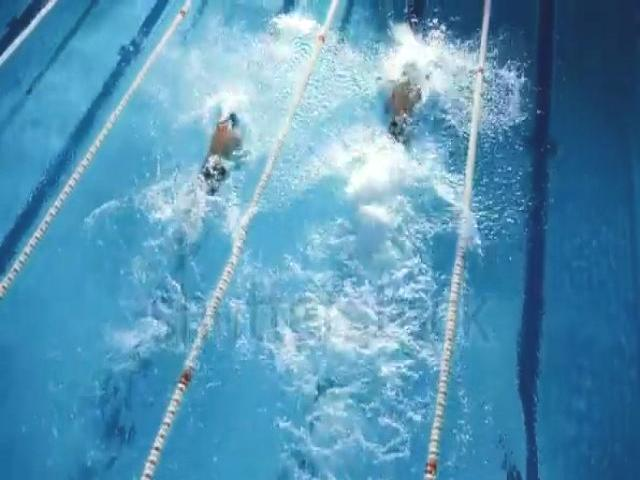swimming: (176, 100, 254, 207), (375, 48, 441, 158)
